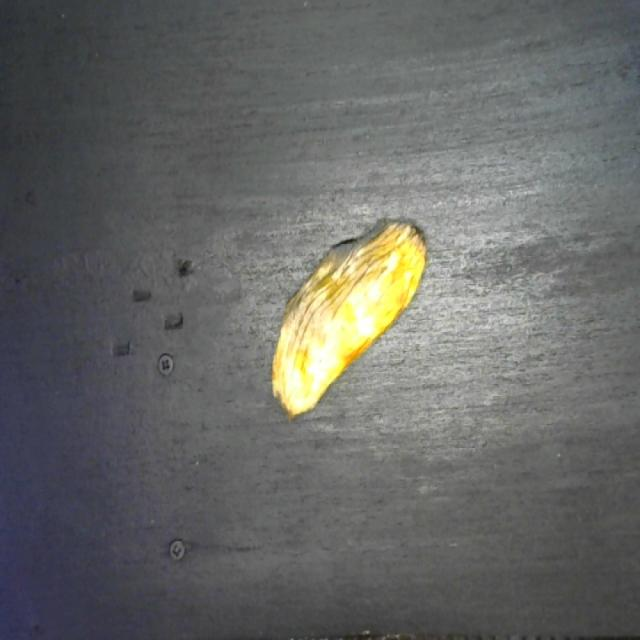biodegradable: (264, 212, 430, 423)
